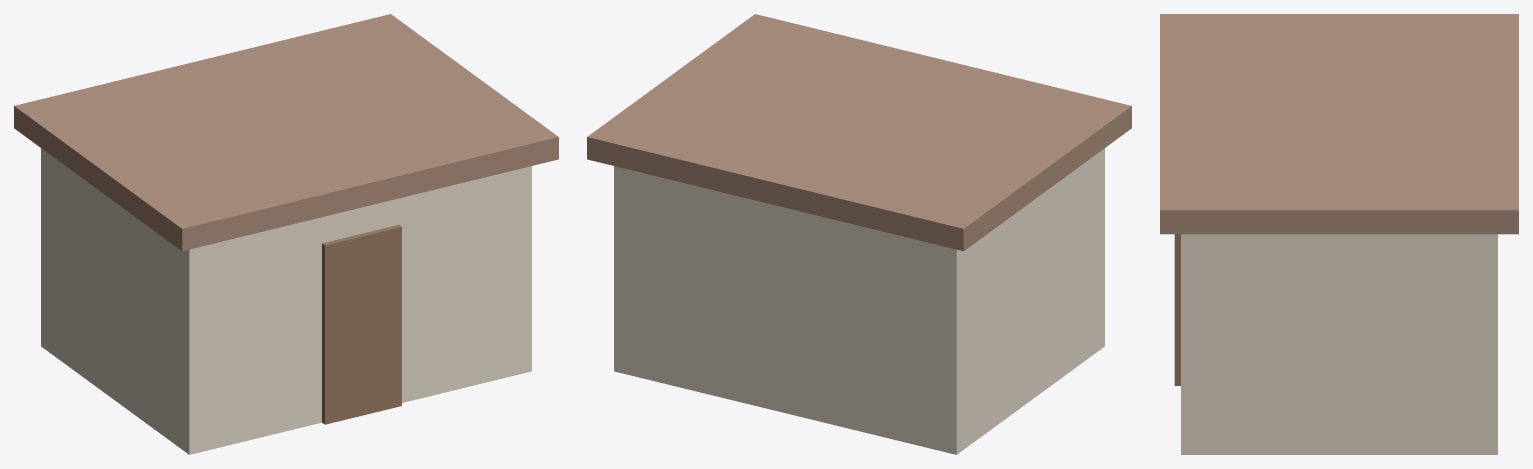
The model's file is variant.glb.
3 views of the same model, side by side, from view 1: azimuth 30°, elevation 25°; view 2: azimuth 150°, elevation 25°; view 3: azimuth 270°, elevation 25° (orthographic). The views are drawn at different scales.
Visible parts, largest first — view 1: walls, roof, door; view 2: walls, roof; view 3: roof, walls, door.
Boxes of the visible parts, x1,y1,x2,y2 form: walls: (41, 148, 531, 454); roof: (14, 14, 558, 251); door: (322, 224, 401, 424); walls: (614, 148, 1104, 454); roof: (587, 14, 1131, 251); roof: (1160, 14, 1518, 234); walls: (1181, 234, 1497, 454); door: (1174, 234, 1180, 385).
Size of the model in its own units: 4.4 by 2.65 by 3.4.
